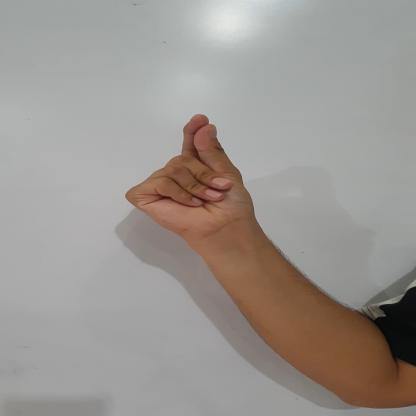R: (107, 106, 273, 242)
